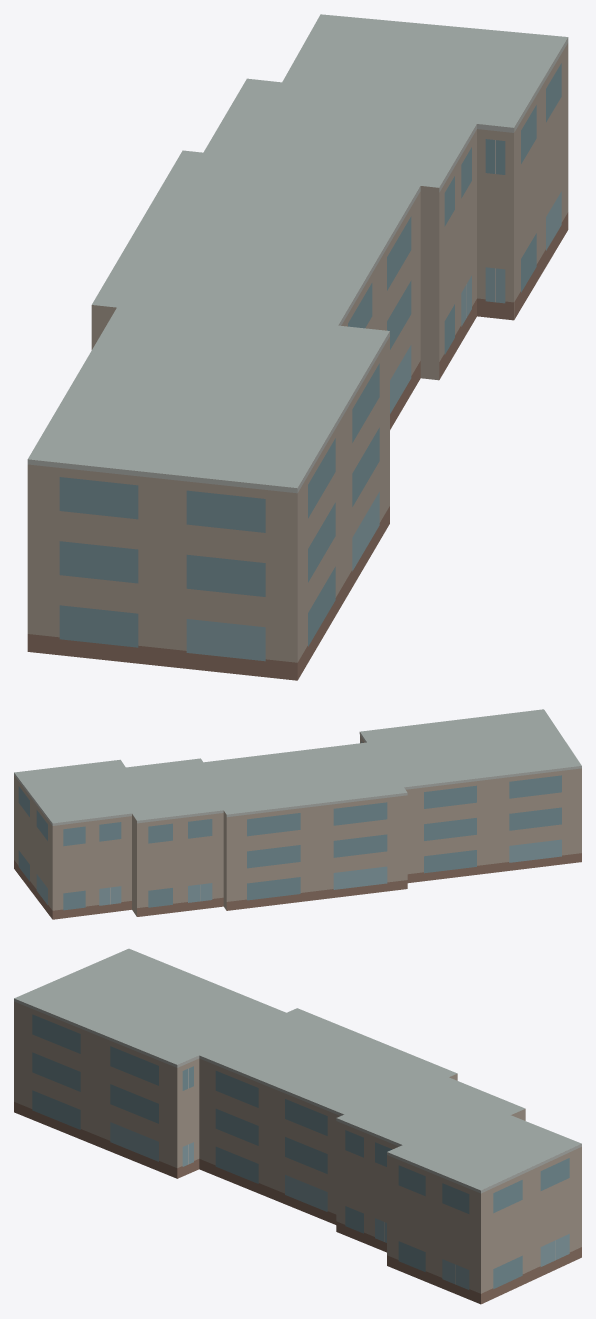
Rendered from survey-upis-32780859.glb.
3 renders of one model, top to bottom at view 1: azimuth 30°, elevation 25°; view 2: azimuth 150°, elevation 25°; view 3: azimuth 270°, elevation 25°, orthographic. The views are drawn at different scales.
Visible parts, largest first — view 1: survey-upis-32780859.tmp; view 2: survey-upis-32780859.tmp; view 3: survey-upis-32780859.tmp.
Boxes of the visible parts, left/top/right/bottom form: survey-upis-32780859.tmp: left=27, top=14, right=568, bottom=680; survey-upis-32780859.tmp: left=14, top=709, right=581, bottom=919; survey-upis-32780859.tmp: left=14, top=948, right=581, bottom=1304.
Size of the model in its own units: 41.71 by 9.15 by 41.36.
